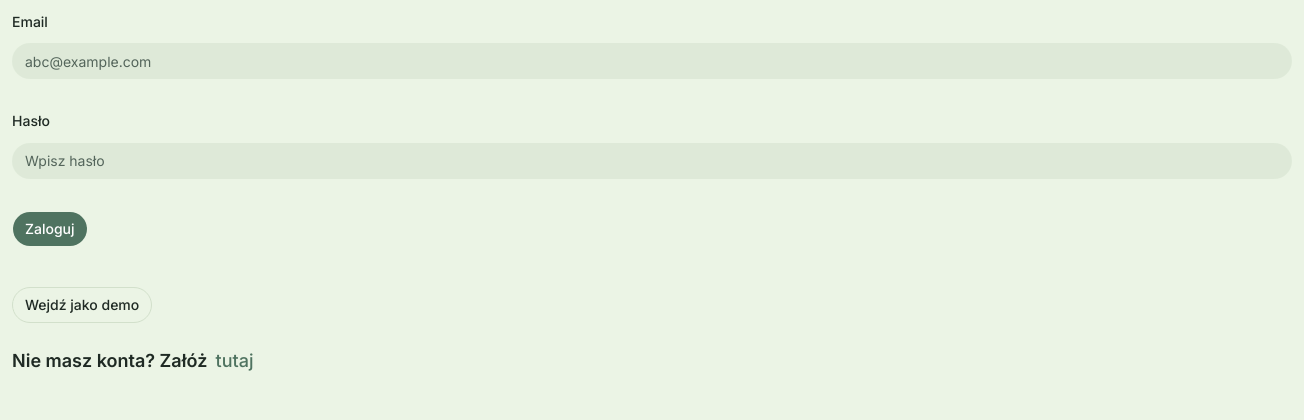
Test case: LoginForm › shows the server error under the password field
Type "jan@x.pl" into the field labelled "Email" at (652, 61), box 12,43 -> 1292,79
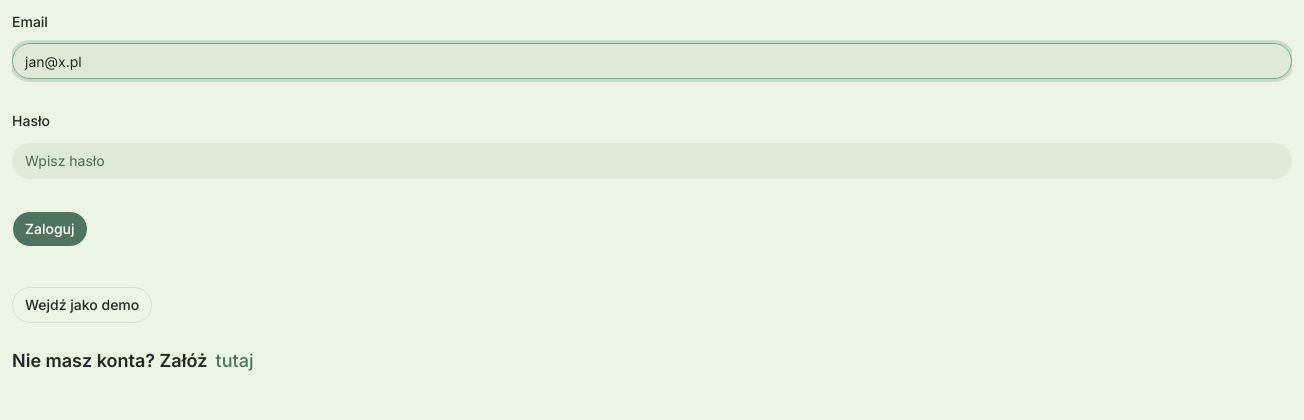
Type "secret1" into the password field labelled "Hasło" at (652, 160), box 12,142 -> 1292,178
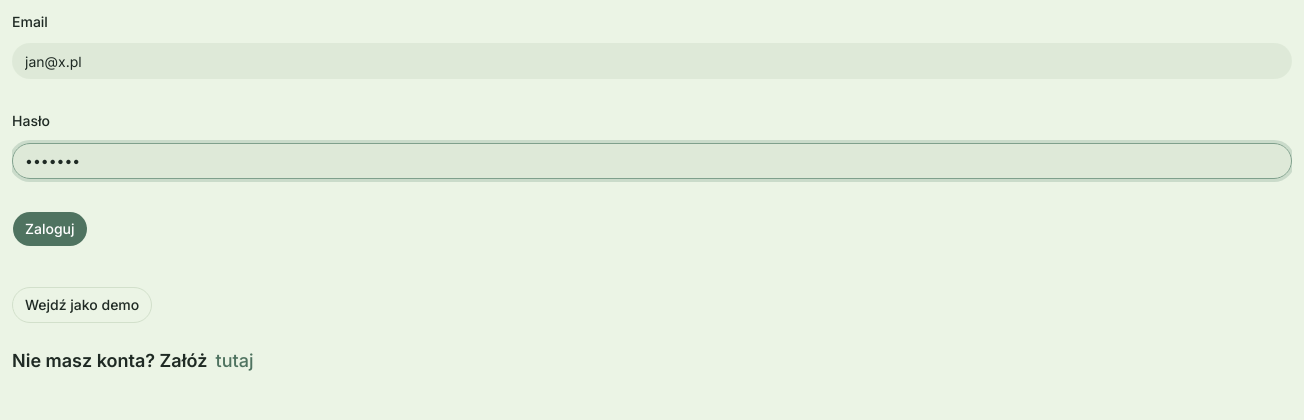
Click the button "Zaloguj" at (50, 228), box 12,210 -> 88,246
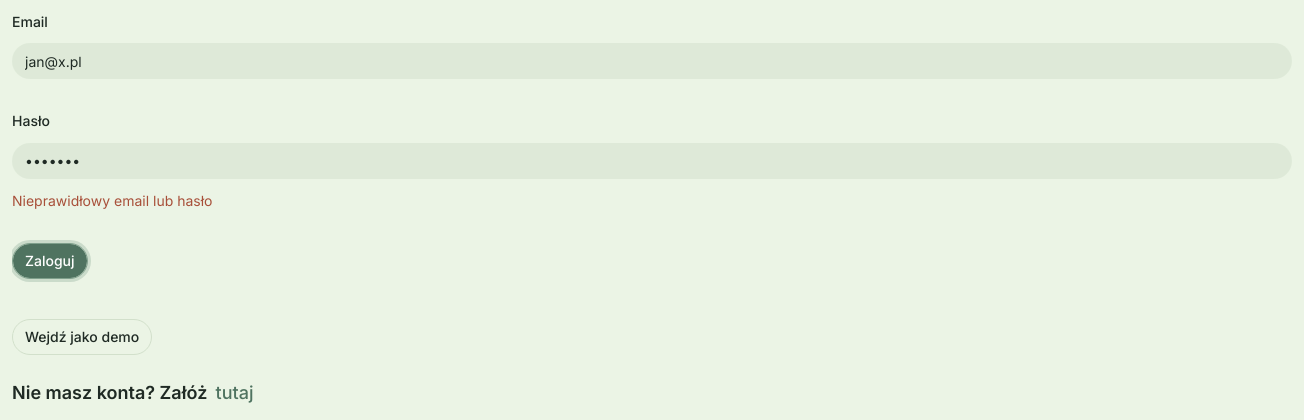
Expected: the text "Nieprawidłowy email lub hasło" is shown, 12,192 -> 212,208
